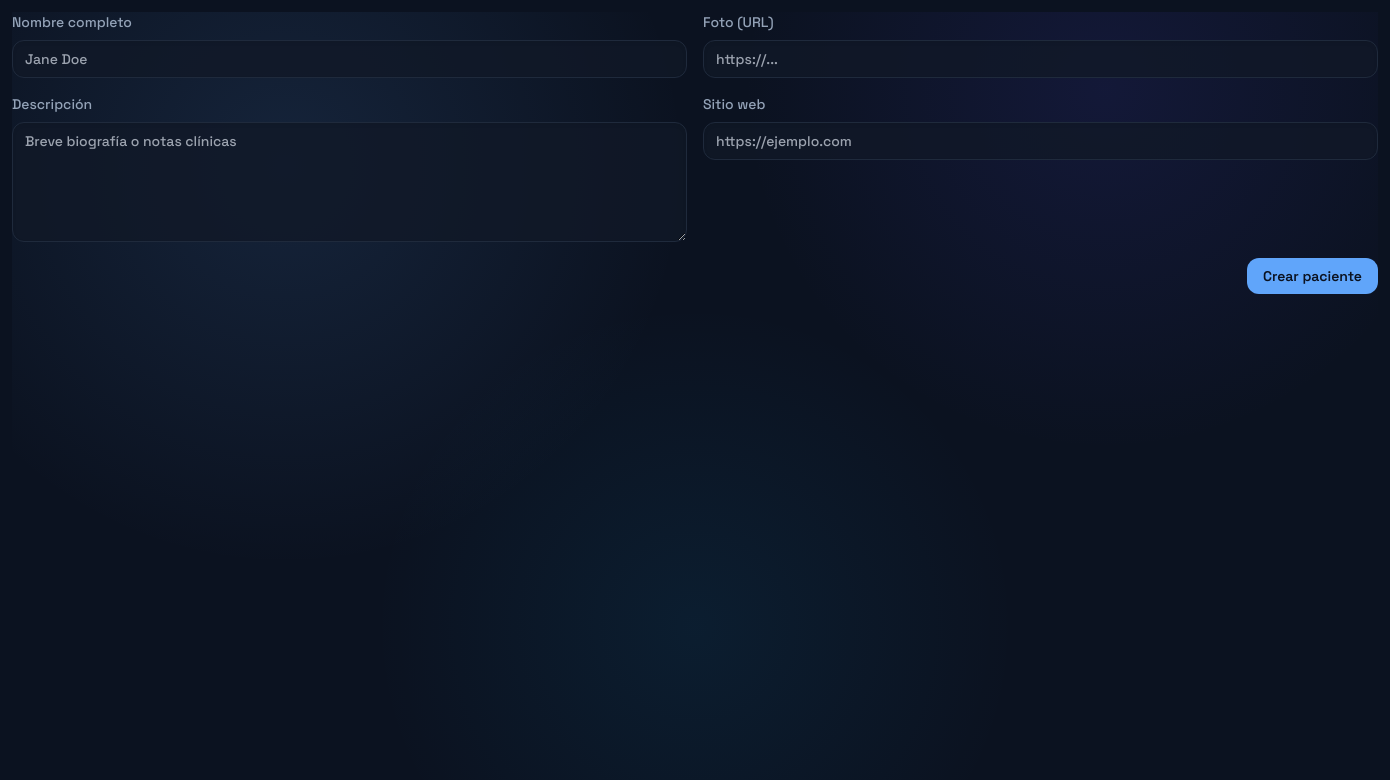
Test: PatientForm › Modo crear › valida URLs correctamente
The image size is (1390, 780).
Step 1. Type "no-es-url" into the field labelled "Foto (URL)" → (1040, 59), box [703,40,1378,78]
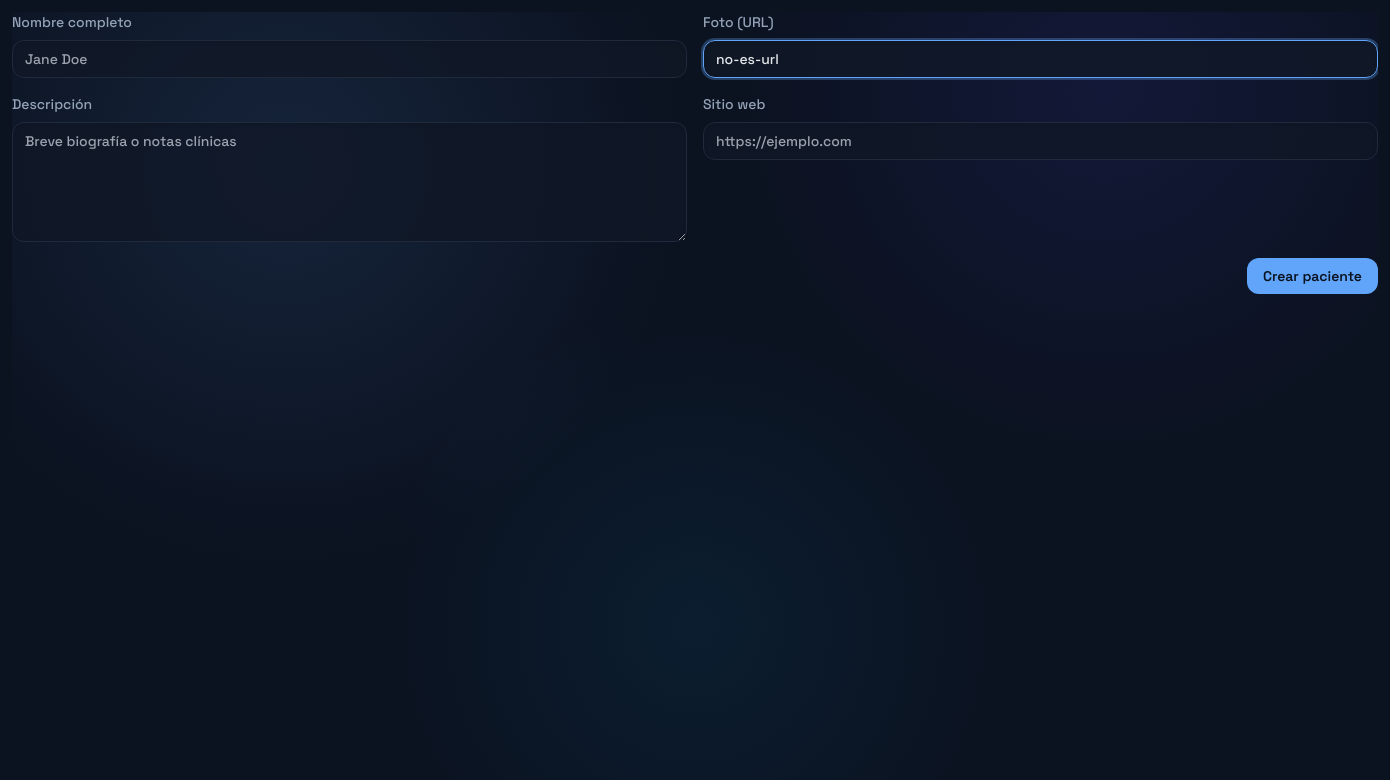
Step 2. Type "tampoco-url" into the field labelled "Sitio web" → (1040, 141), box [703,122,1378,160]
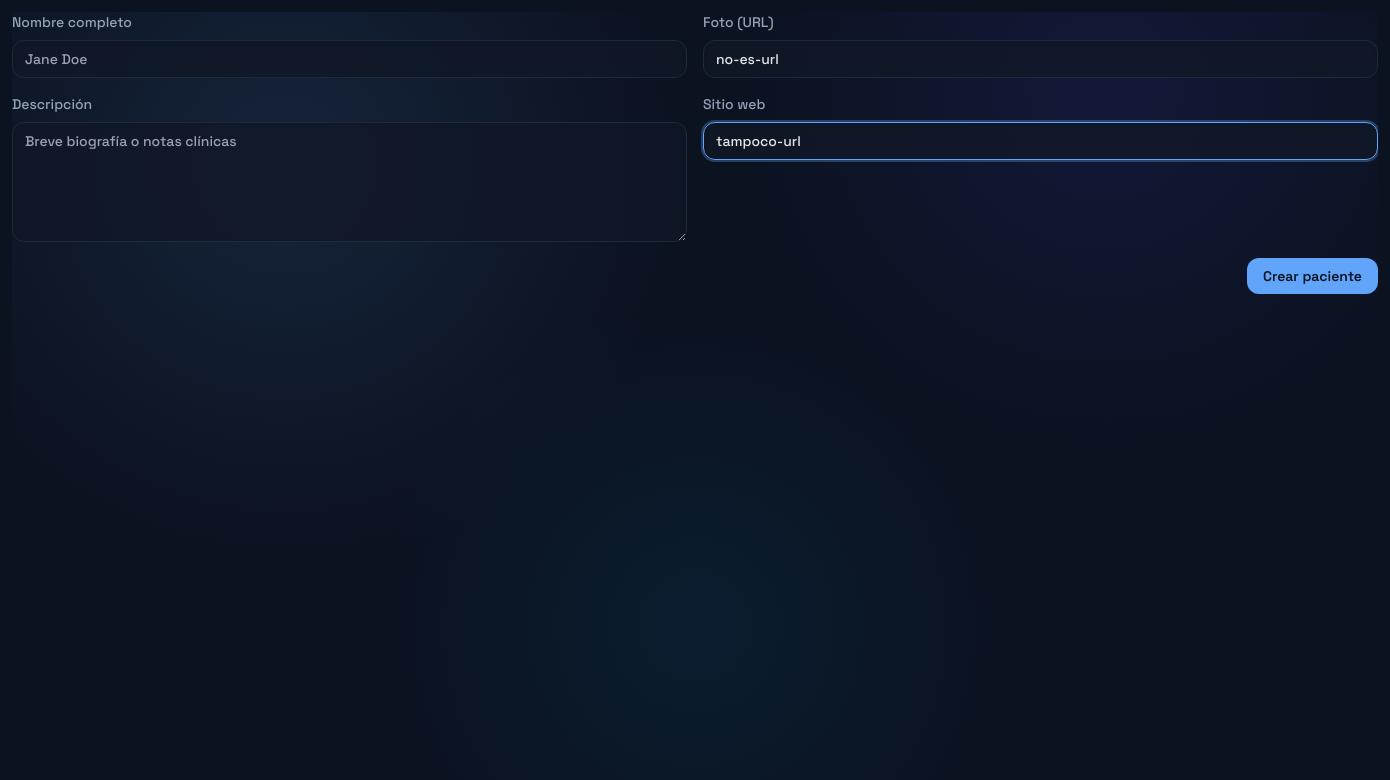
Step 3. Click the button "Crear paciente" → (1312, 276), box [1247,258,1378,294]
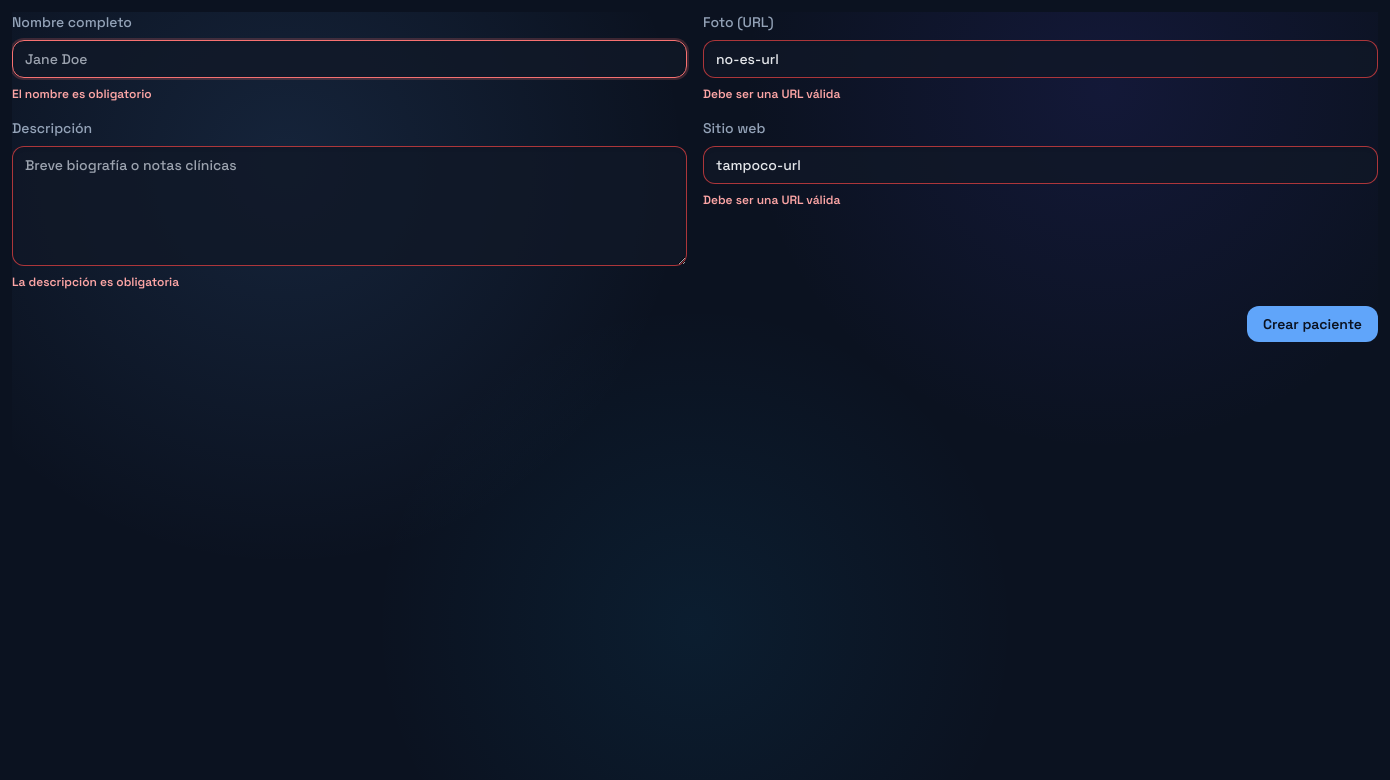
Expected: the text "Debe ser una URL válida" is shown 2 times, [703,86,840,102]; [703,192,840,208]
